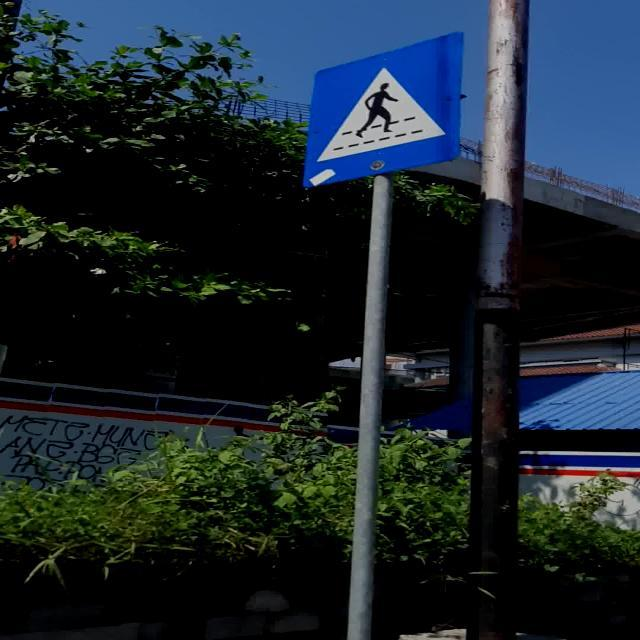Perintah Jalur Penyebrangan: (302, 31, 464, 188)
